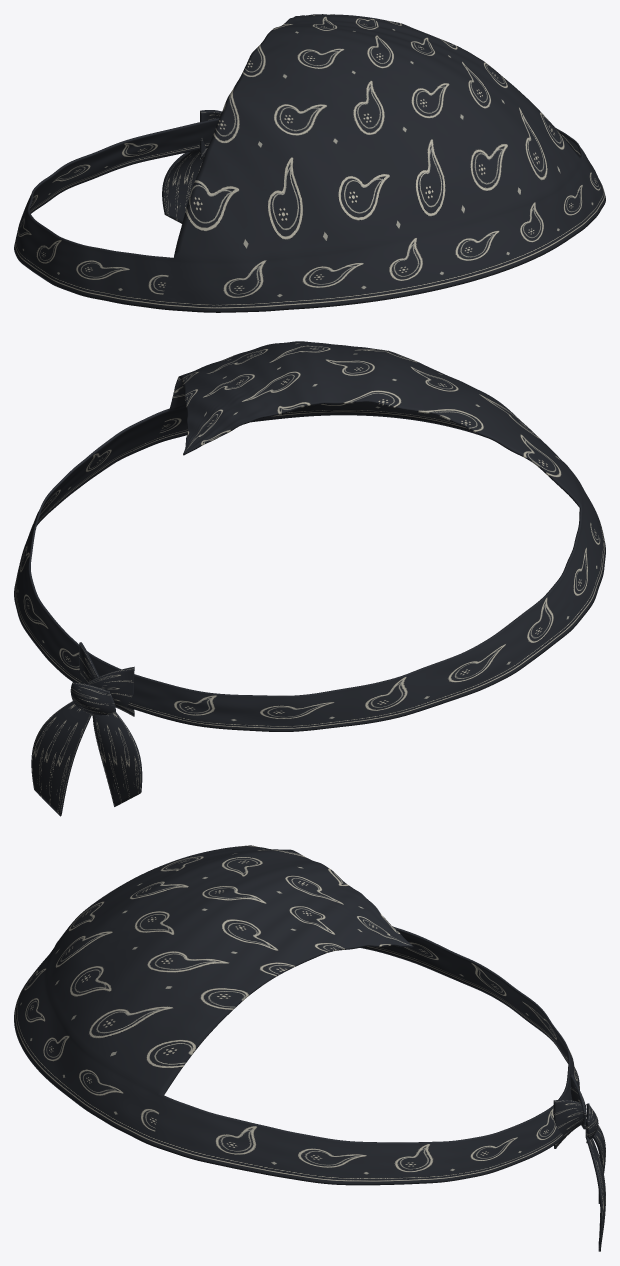
File: Feminine-ponytail-bandana.glb
3 views of the same model, one above another, from view 1: azimuth 30°, elevation 25°; view 2: azimuth 150°, elevation 25°; view 3: azimuth 270°, elevation 25° (orthographic). The views are drawn at different scales.
Visible parts, largest first — view 1: Bandana / continuous triangular scarf, Bandana / hemmed tail -1; view 2: Bandana / continuous triangular scarf, Bandana / hemmed tail 1, Bandana / hemmed tail -1, Bandana / gathered fold -1, Bandana / rounded knot fold; view 3: Bandana / continuous triangular scarf, Bandana / gathered fold 1, Bandana / hemmed tail 1.
Part boxes in pixels (bbox=[...]): Bandana / continuous triangular scarf: bbox=[14, 14, 605, 312]; Bandana / hemmed tail -1: bbox=[162, 149, 203, 223]; Bandana / continuous triangular scarf: bbox=[14, 341, 605, 731]; Bandana / hemmed tail 1: bbox=[31, 701, 91, 816]; Bandana / hemmed tail -1: bbox=[92, 712, 142, 806]; Bandana / gathered fold -1: bbox=[87, 666, 134, 716]; Bandana / rounded knot fold: bbox=[70, 682, 115, 715]; Bandana / continuous triangular scarf: bbox=[14, 845, 579, 1185]; Bandana / gathered fold 1: bbox=[553, 1100, 585, 1148]; Bandana / hemmed tail 1: bbox=[585, 1127, 605, 1251].
Size of the model in its own units: 0.7469 by 0.4781 by 0.7587.
1 material, 1 textured.
